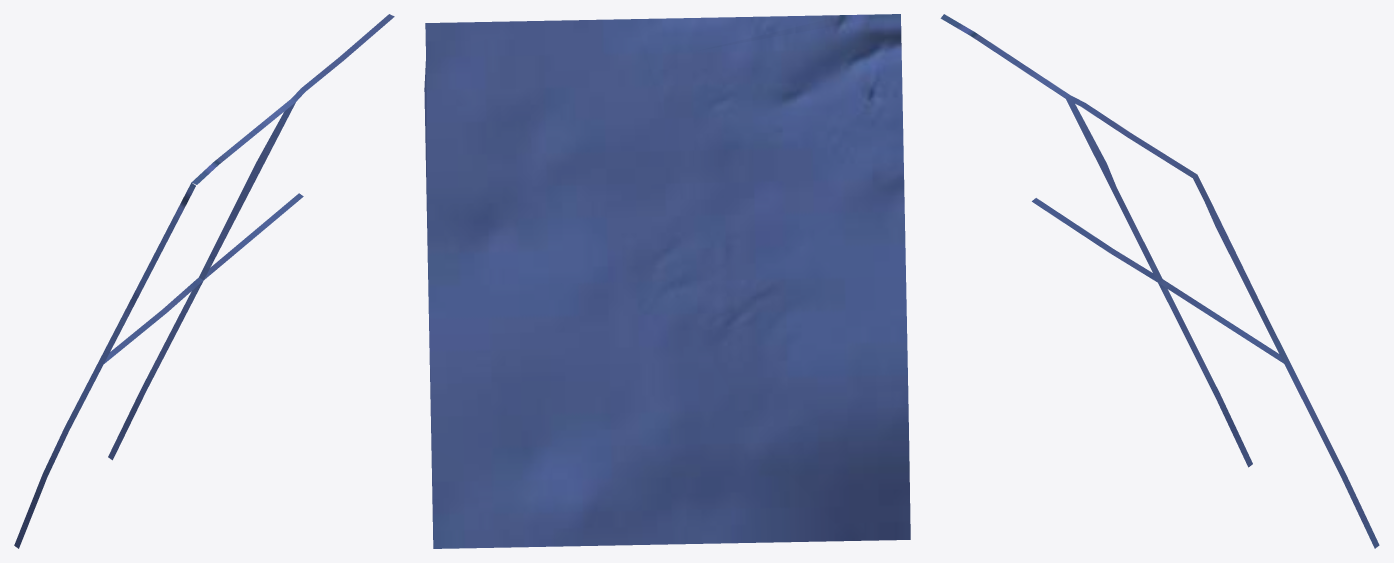
3 renders of one model, left to right at view 1: azimuth 30°, elevation 25°; view 2: azimuth 150°, elevation 25°; view 3: azimuth 270°, elevation 25°, orthographic. The views are drawn at different scales.
Bounding box in the file's own units: 19355 × 18085 × 16932.
1 material, 1 textured.
